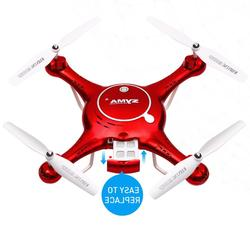drone: (2, 12, 248, 199)
